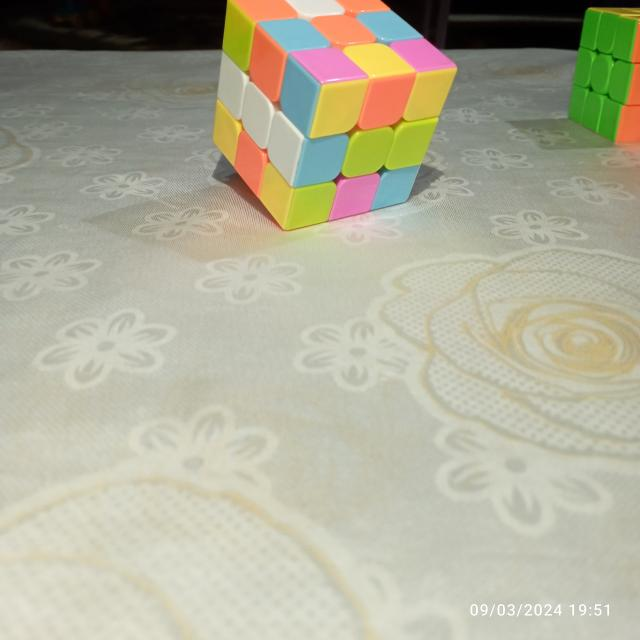Rub: (209, 0, 459, 234), (562, 0, 639, 152)
